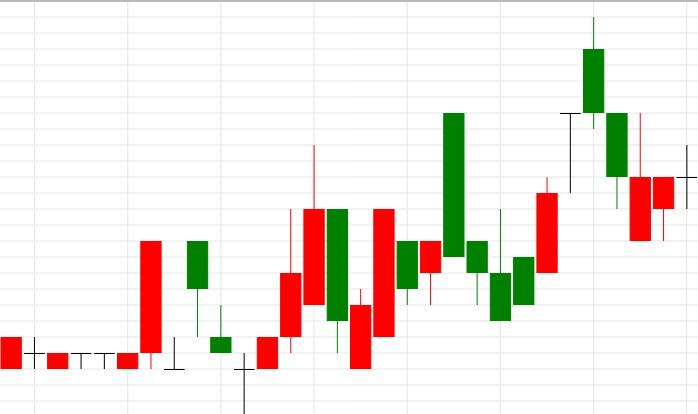morning_star_rise: (188, 241, 278, 414)
